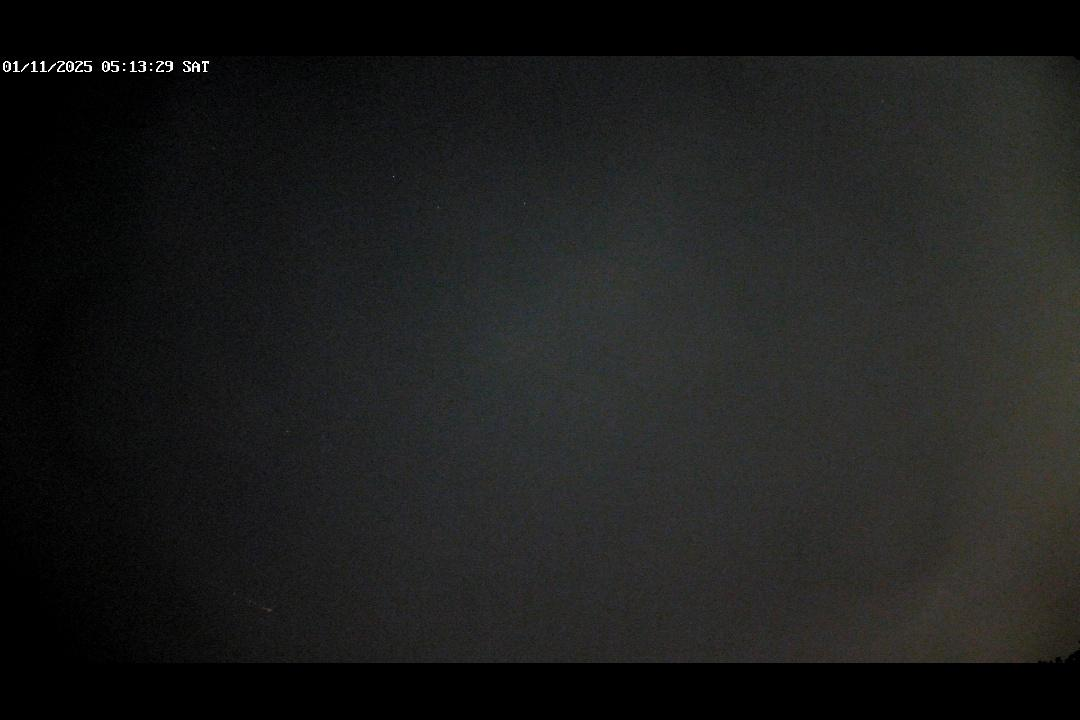Plane: (246, 601, 280, 615)
